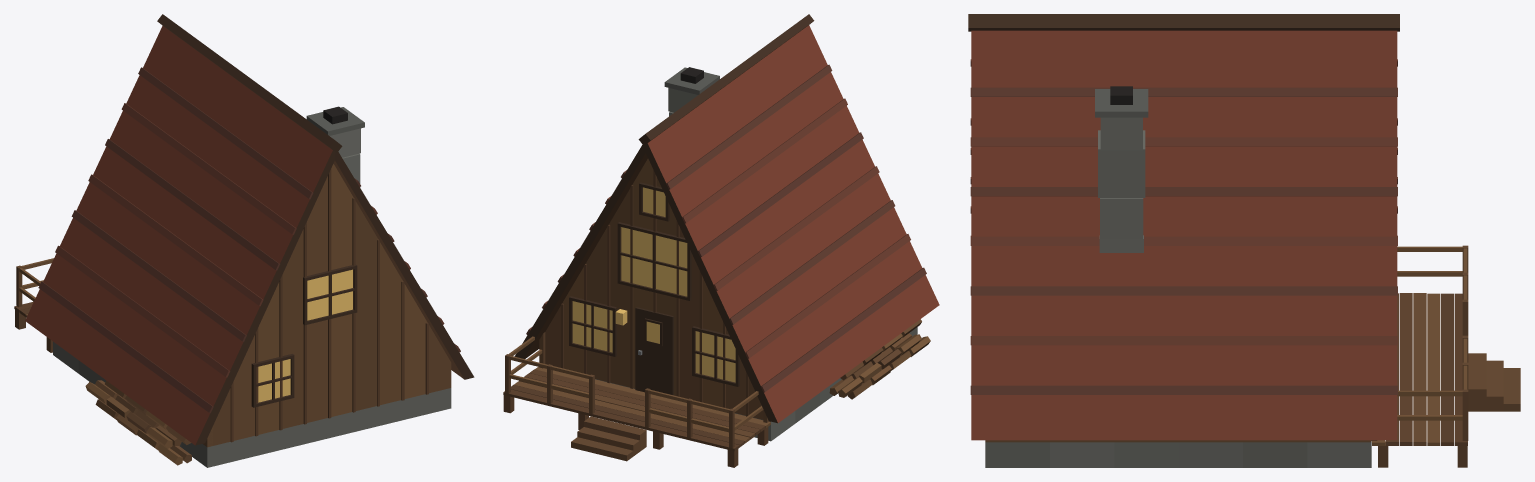
The model's file is cabin.glb.
The picture shows the model from 3 angles, left to right: view 1: azimuth 30°, elevation 25°; view 2: azimuth 150°, elevation 25°; view 3: azimuth 270°, elevation 25°; orthographic projection. The views are drawn at different scales.
Parts seen in each view (by area): view 1: cabin; view 2: cabin; view 3: cabin.
Boxes of the visible parts, x1,y1,x2,y2 form: cabin: (14, 14, 474, 467); cabin: (503, 14, 939, 467); cabin: (968, 14, 1520, 467).
Size of the model in its own units: 7.24 by 7.36 by 9.72.
